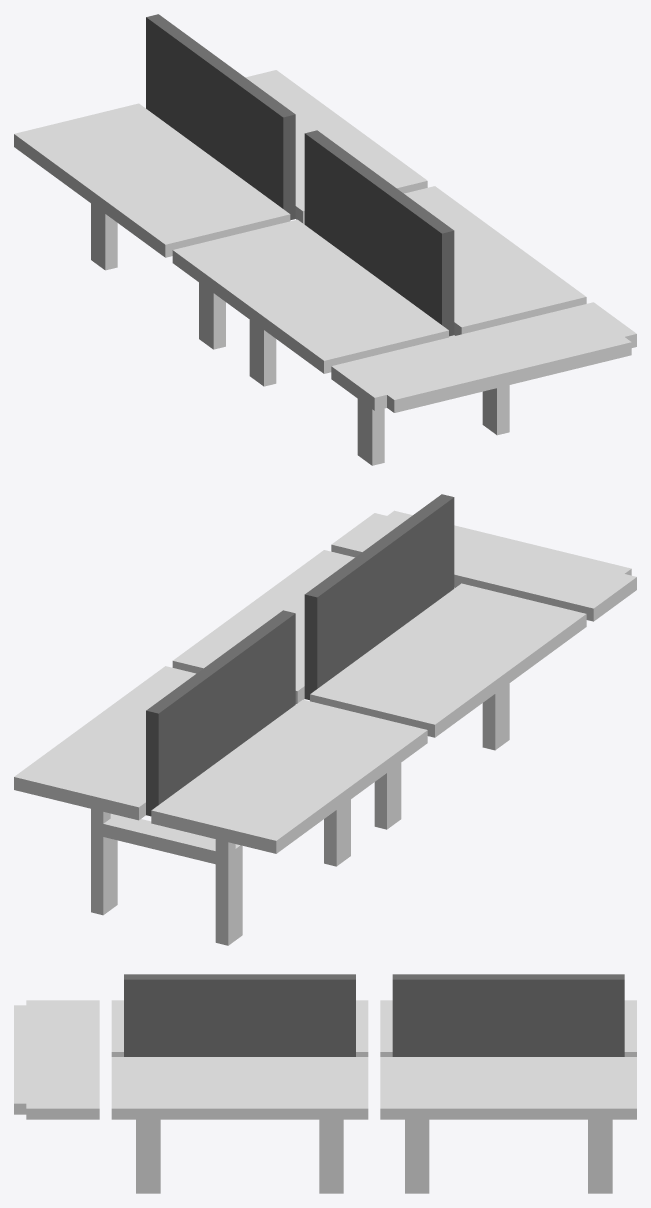
The model's file is dice_2og-95-desk_cluster.obj.
3 views of the same model, one above another, from view 1: azimuth 30°, elevation 25°; view 2: azimuth 150°, elevation 25°; view 3: azimuth 270°, elevation 25° (orthographic). The views are drawn at different scales.
Parts seen in each view (by area): view 1: desk_cluster; view 2: desk_cluster; view 3: desk_cluster.
Boxes of the visible parts, x1,y1,x2,y2 form: desk_cluster: (14, 14, 636, 465); desk_cluster: (14, 494, 636, 945); desk_cluster: (14, 974, 636, 1193).
Size of the model in its own units: 2.1 by 1.7 by 5.1.
1 material, 1 textured.
